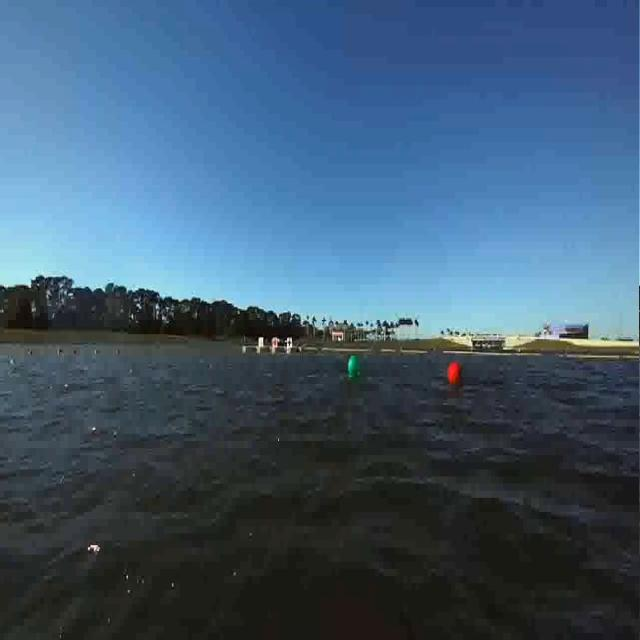green-buoy: (348, 354, 360, 376)
red-buoy: (446, 361, 459, 384)
